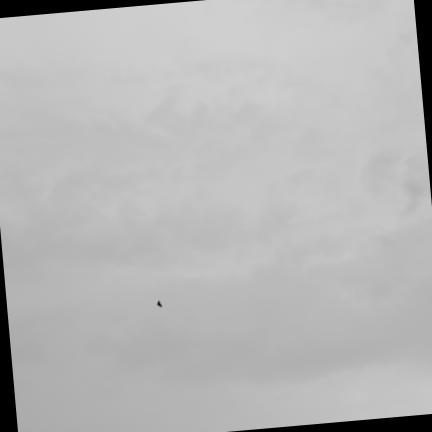Shahed: (157, 301, 162, 307)
